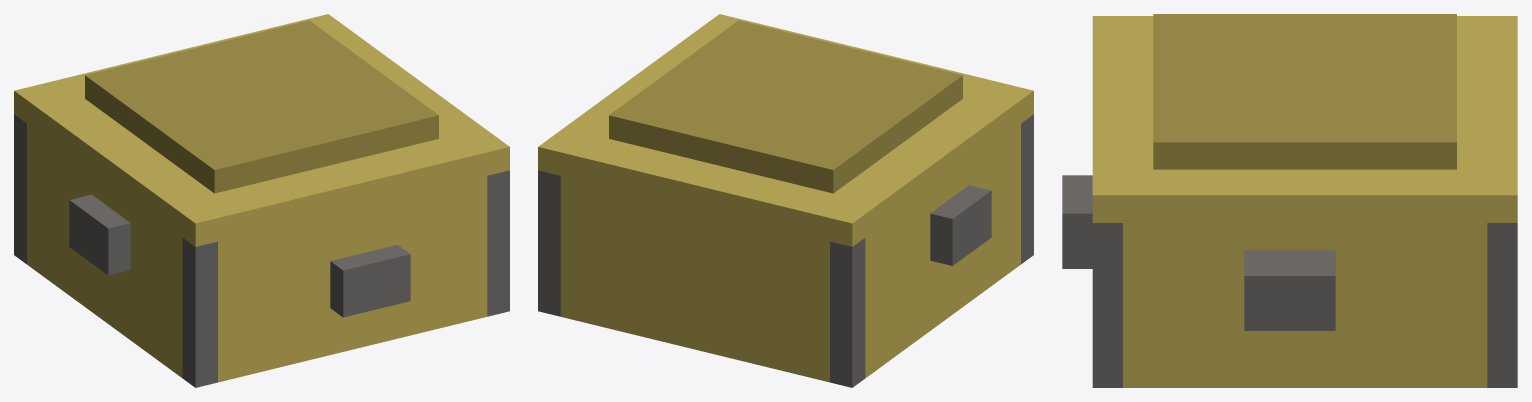
The model's file is cesto_fichas_apuesta_01.glb.
3 views of the same model, side by side, from view 1: azimuth 30°, elevation 25°; view 2: azimuth 150°, elevation 25°; view 3: azimuth 270°, elevation 25° (orthographic). The views are drawn at different scales.
Visible parts, largest first — view 1: cesto_fichas_apuesta; view 2: cesto_fichas_apuesta; view 3: cesto_fichas_apuesta.
Boxes of the visible parts, left/top/right/bottom form: cesto_fichas_apuesta: left=14, top=14, right=509, bottom=387; cesto_fichas_apuesta: left=538, top=14, right=1033, bottom=387; cesto_fichas_apuesta: left=1062, top=14, right=1517, bottom=387.
Bounding box in the file's own units: 1.21 × 0.5714 × 1.07.
